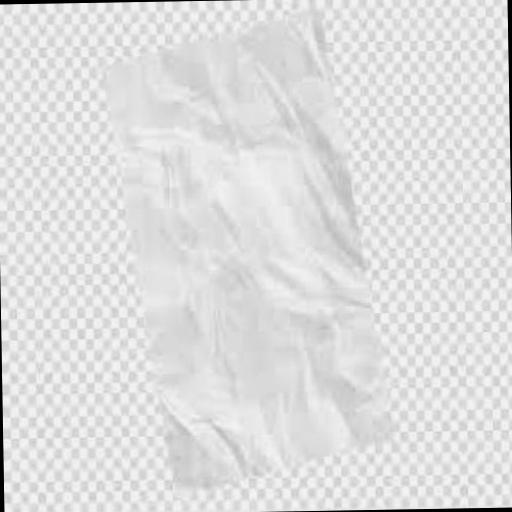paper: (102, 8, 394, 486)
